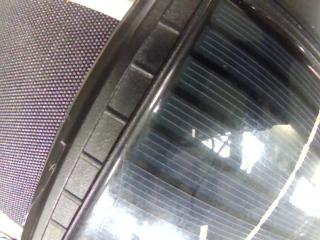crack: (223, 65, 227, 67)
solarboard: (84, 2, 320, 240)
